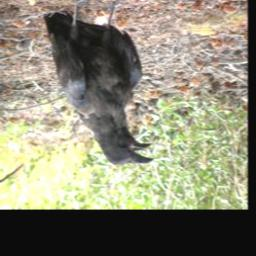Crow: (41, 0, 154, 167)
